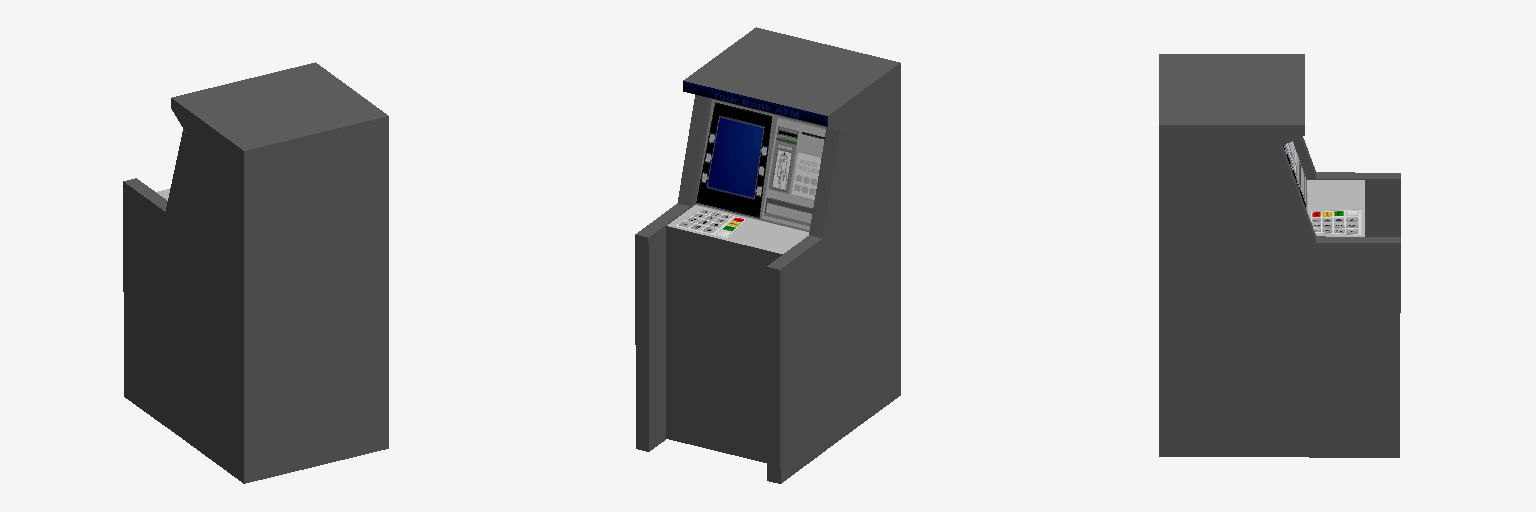
3 views of the same model, side by side, from view 1: azimuth 30°, elevation 25°; view 2: azimuth 150°, elevation 25°; view 3: azimuth 270°, elevation 25° (orthographic).
Parts seen in each view (by area): view 1: atm:pCube2; view 2: atm:pCube2; view 3: atm:pCube2.
Boxes of the visible parts, <box> form: atm:pCube2: <box>123,62,388,483</box>; atm:pCube2: <box>635,27,900,483</box>; atm:pCube2: <box>1159,54,1400,457</box>.
Bounding box in the file's own units: 2.86 × 6.3 × 4.14.
1 materials, 1 textured.